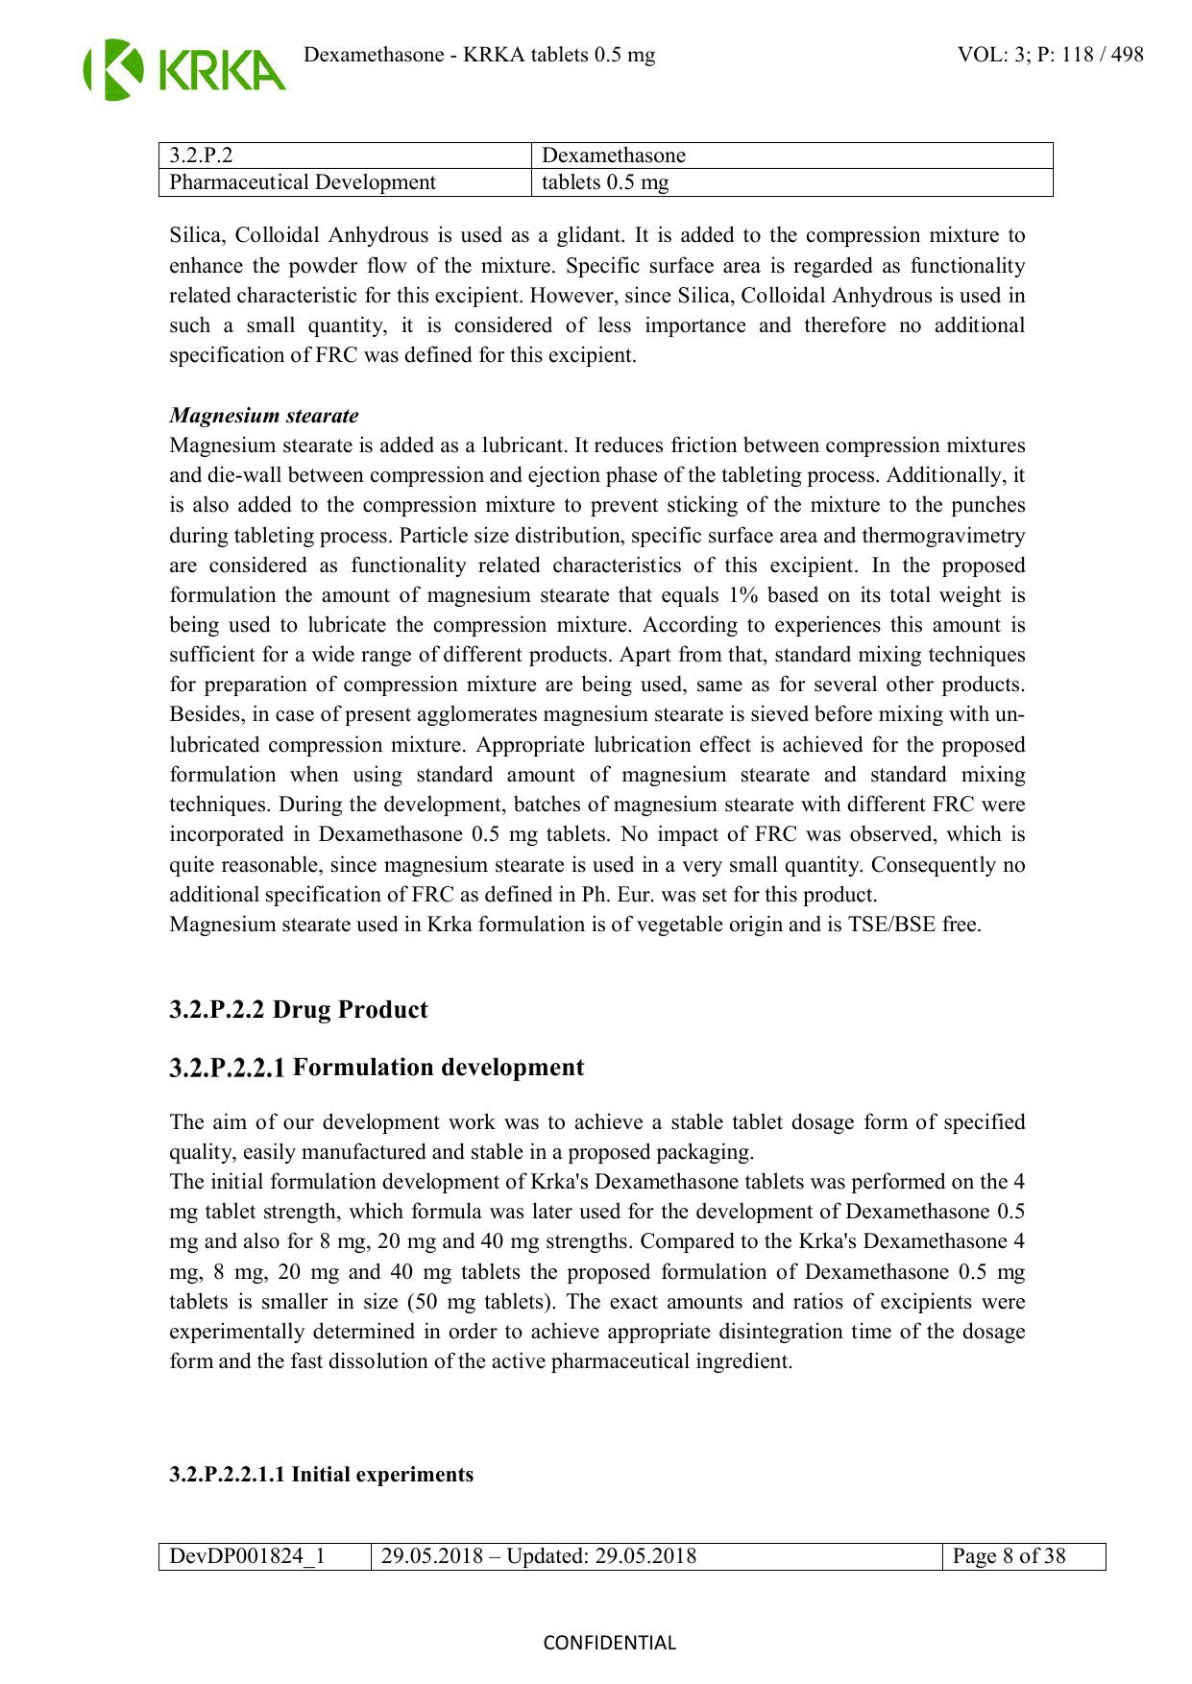full_lined: (157, 142, 1054, 197), (157, 1542, 1107, 1571)
